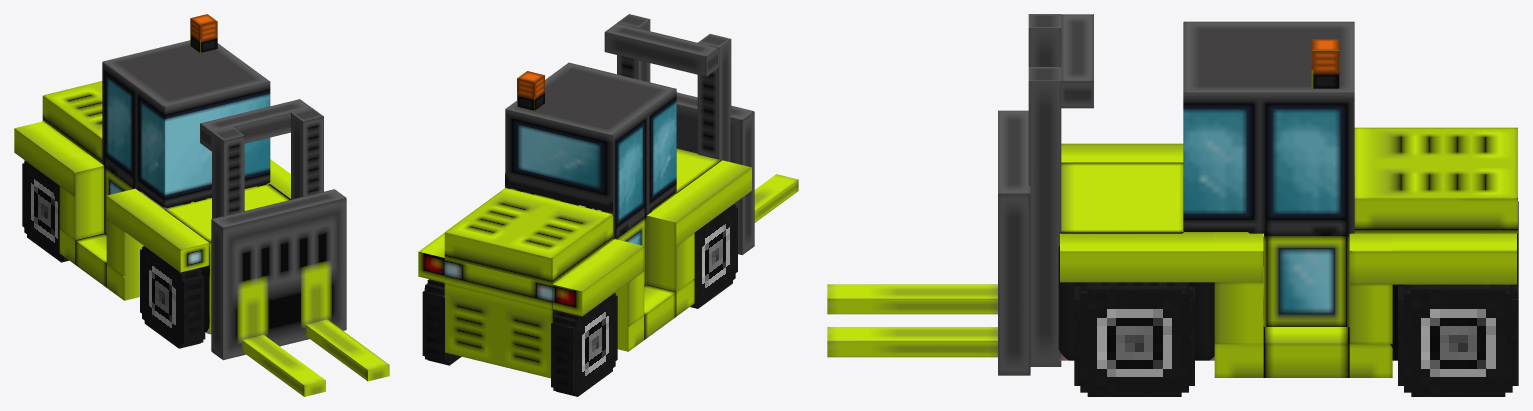
Rendered from BGN_FORK CAR.fbx.
3 renders of one model, left to right at view 1: azimuth 30°, elevation 25°; view 2: azimuth 150°, elevation 25°; view 3: azimuth 270°, elevation 25°, orthographic. The views are drawn at different scales.
Visible parts, largest first — view 1: BODY, FORK, HOLDER, RF, RR; view 2: BODY, HOLDER, RR, FORK, RF, RL; view 3: BODY, FORK, HOLDER, LF, RL.
Boxes of the visible parts, <box> form: BODY: <box>14,14,290,334</box>; FORK: <box>211,189,389,396</box>; HOLDER: <box>200,99,323,228</box>; RF: <box>140,246,205,348</box>; RR: <box>22,160,68,262</box>; BODY: <box>418,62,751,378</box>; HOLDER: <box>604,14,731,161</box>; RR: <box>551,292,617,396</box>; FORK: <box>676,92,798,255</box>; RF: <box>690,204,737,308</box>; RL: <box>422,279,461,365</box>; BODY: <box>1058,21,1517,377</box>; FORK: <box>827,110,1030,375</box>; HOLDER: <box>1028,14,1093,366</box>; LF: <box>1074,282,1194,396</box>; RL: <box>1398,284,1518,396</box>.
Size of the model in its own units: 172 by 245 by 467.
Materials: 2 (2 with a texture image).
